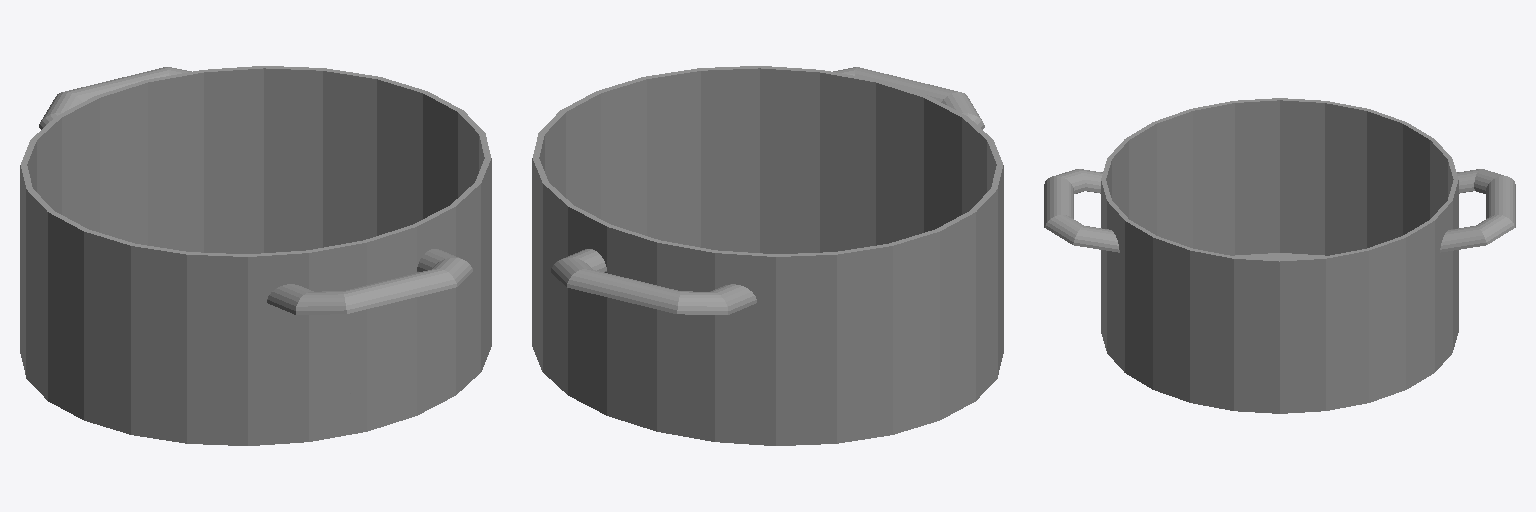
The robot description file, URDF, robot "pot":
<?xml version="1.0"?>

<robot name="pot">
  <link name="pot_frame">
    <visual>
      <geometry>
        <mesh filename="package://kitchen_context/models/pot/meshes/pot.dae"/>
      </geometry>
    </visual>
  </link>
</robot>

--- Facts derived from the render (not from the file) ---
Views: 3 orthographic renders of the robot side by side, from view 1: azimuth 30°, elevation 25°; view 2: azimuth 150°, elevation 25°; view 3: azimuth 270°, elevation 25°.
Robot: pot — 1 links, 0 joints (none); root link pot_frame; default pose: all joints at 0.
Links seen in each view (by area): view 1: pot_frame; view 2: pot_frame; view 3: pot_frame.
Link boxes in pixels (left/top/right/bottom): pot_frame: left=20, top=66, right=491, bottom=445; pot_frame: left=532, top=66, right=1003, bottom=445; pot_frame: left=1044, top=98, right=1515, bottom=413.
Bounding box of the posed robot: 0.23 × 0.28 × 0.1 m (x, y, z).
1 mesh visuals loaded from 1 distinct referenced files (1 Collada DAE).